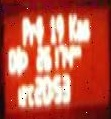0: (41, 73, 50, 105), (7, 44, 15, 73)
1: (48, 13, 55, 43), (53, 45, 58, 68), (17, 82, 20, 107)
2: (34, 73, 42, 105), (35, 45, 43, 71), (20, 82, 25, 107)
3: (61, 71, 70, 103)
4: (65, 43, 73, 68)
5: (52, 71, 61, 103)
6: (42, 43, 51, 71)
7: (58, 43, 66, 68)
9: (55, 11, 64, 41)
X: (77, 16, 90, 41), (34, 13, 43, 43), (67, 11, 76, 41), (21, 15, 29, 45), (28, 20, 34, 45), (27, 82, 33, 107), (73, 44, 82, 57)
